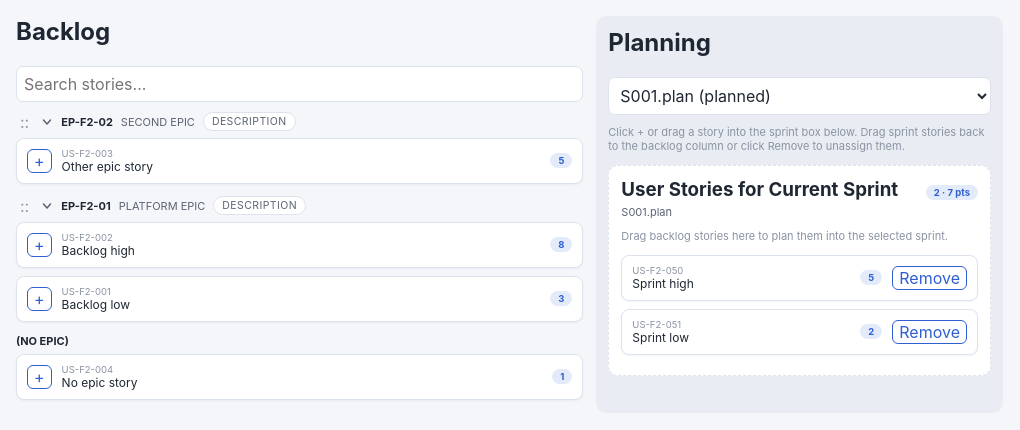
Test: BacklogView › disables backlog drag reorder while search is active without disabling the plus button
Type "backlog" into the field with placeholder "Search stories..." at (300,84), box [16,66,583,102]
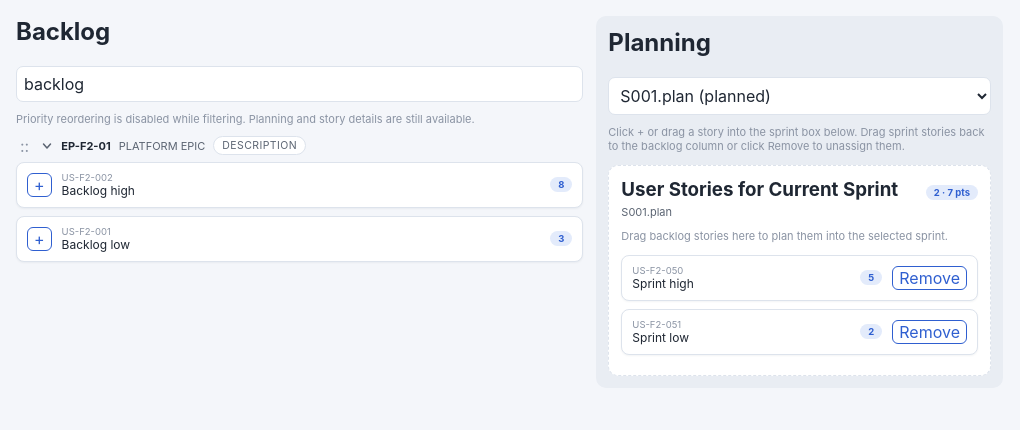
Expected: the button named "add US-F2-001" is enabled, [27,227,52,251]
Now the text "Priority reordering is disabled while filtering" is shown, box [16,112,475,126]
